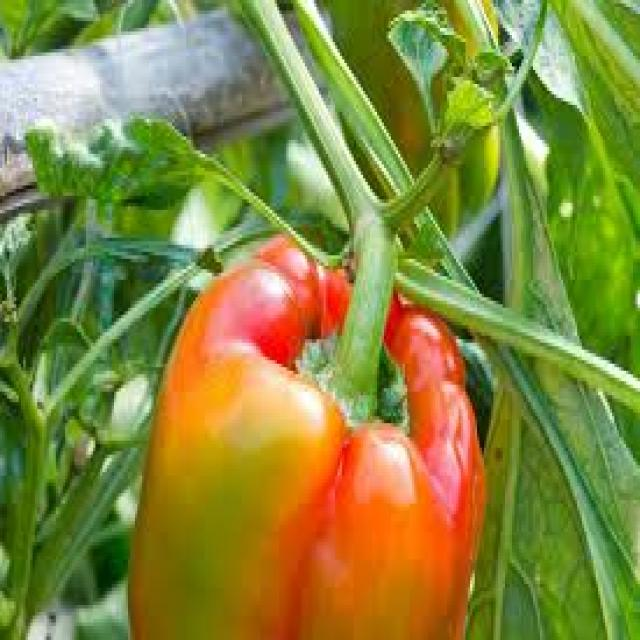organic waste: (126, 228, 486, 636)
